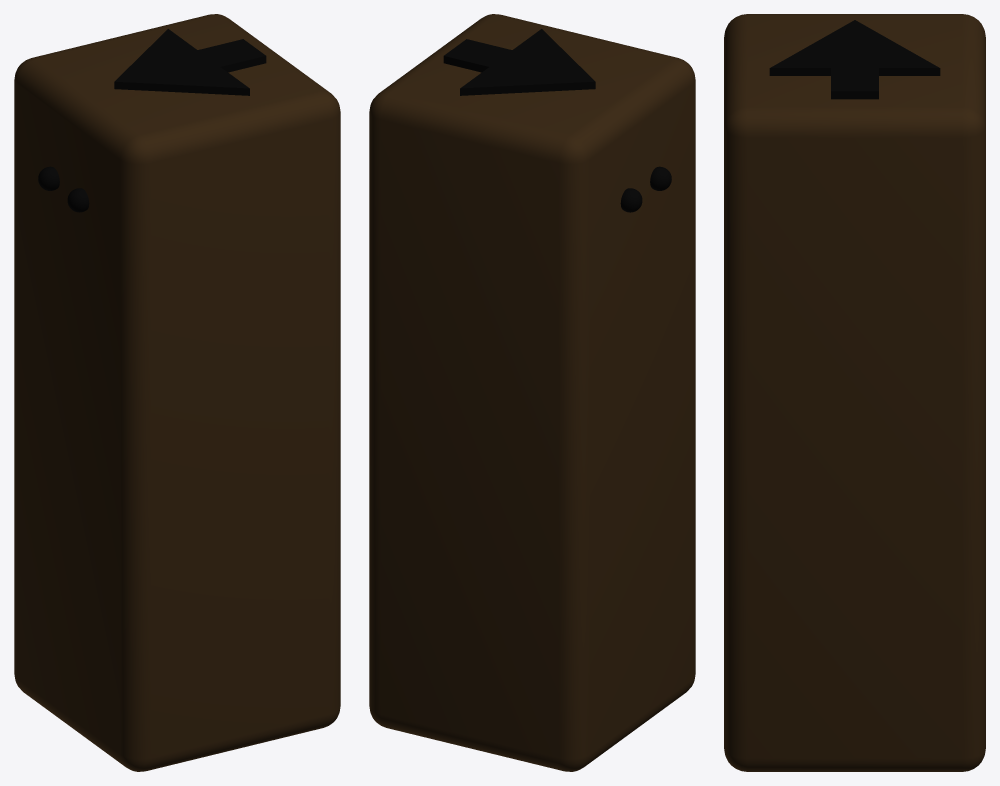
Rendered from qbrown.obj.
The picture shows the model from 3 angles, left to right: view 1: azimuth 30°, elevation 25°; view 2: azimuth 150°, elevation 25°; view 3: azimuth 270°, elevation 25°; orthographic projection. The views are drawn at different scales.
Visible parts, largest first — view 1: Cube.018_Cube.008; view 2: Cube.018_Cube.008; view 3: Cube.018_Cube.008.
Part boxes in pixels (x1,y1,x2,y2): Cube.018_Cube.008: (14,14,340,771); Cube.018_Cube.008: (369,14,695,771); Cube.018_Cube.008: (724,14,985,771).
Size of the model in its own units: 0.1904 by 0.5061 by 0.1785.
